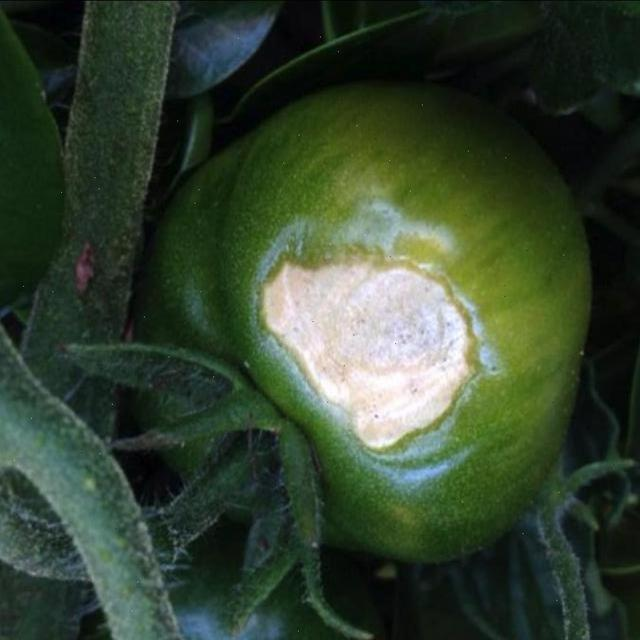Sunscald Fruit: (170, 166, 327, 304)
